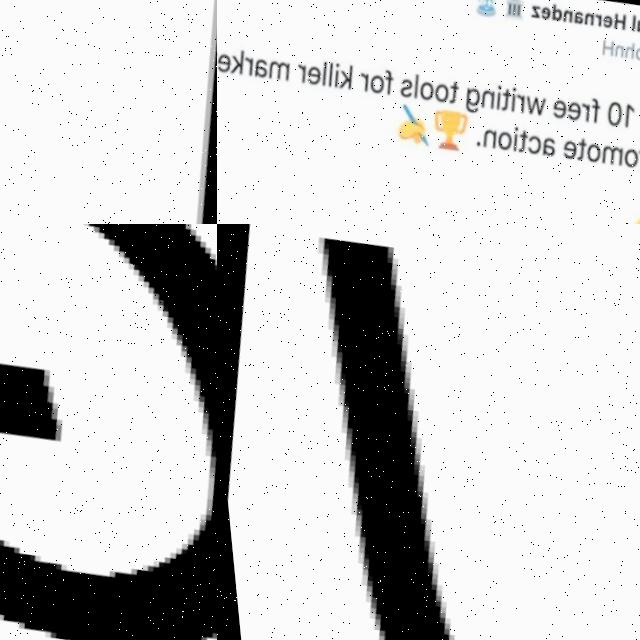A: (249, 57, 268, 81), (534, 138, 553, 161), (570, 11, 583, 28)
C: (521, 135, 538, 158)
D: (0, 0, 217, 224), (548, 5, 562, 24)
E: (545, 100, 565, 123), (556, 141, 575, 163), (562, 102, 579, 124), (302, 65, 319, 87), (217, 51, 230, 73), (599, 17, 612, 31), (537, 8, 550, 22)
F: (583, 100, 597, 127), (378, 70, 392, 97)
G: (0, 224, 217, 640), (460, 88, 478, 117)
H: (597, 40, 614, 60), (610, 15, 626, 34), (621, 46, 632, 62)
I: (327, 62, 340, 89), (503, 87, 515, 114), (490, 86, 500, 112), (506, 127, 516, 153)
K: (225, 47, 243, 76), (334, 63, 352, 91)
L: (408, 74, 417, 100), (322, 62, 331, 88), (317, 62, 325, 86), (628, 17, 635, 35)
M: (594, 146, 620, 170), (264, 59, 289, 83)
N: (477, 129, 494, 152), (476, 90, 493, 112), (580, 14, 594, 30), (559, 10, 572, 26), (611, 47, 622, 60)
O: (490, 132, 510, 154), (579, 145, 598, 167), (414, 81, 432, 103), (617, 150, 635, 172), (429, 84, 448, 103), (365, 75, 383, 94), (630, 49, 640, 64)
P: (634, 108, 640, 136)
R: (353, 72, 368, 94), (292, 64, 306, 84), (510, 95, 523, 116), (239, 56, 251, 76), (575, 105, 587, 124), (630, 151, 640, 172), (591, 16, 602, 29)
S: (393, 78, 412, 101)
T: (570, 140, 584, 164), (512, 131, 526, 155), (495, 90, 509, 113), (443, 82, 457, 105)
U: (226, 224, 640, 640), (632, 22, 640, 36)
W: (519, 96, 544, 120)
Z: (527, 5, 540, 21)
